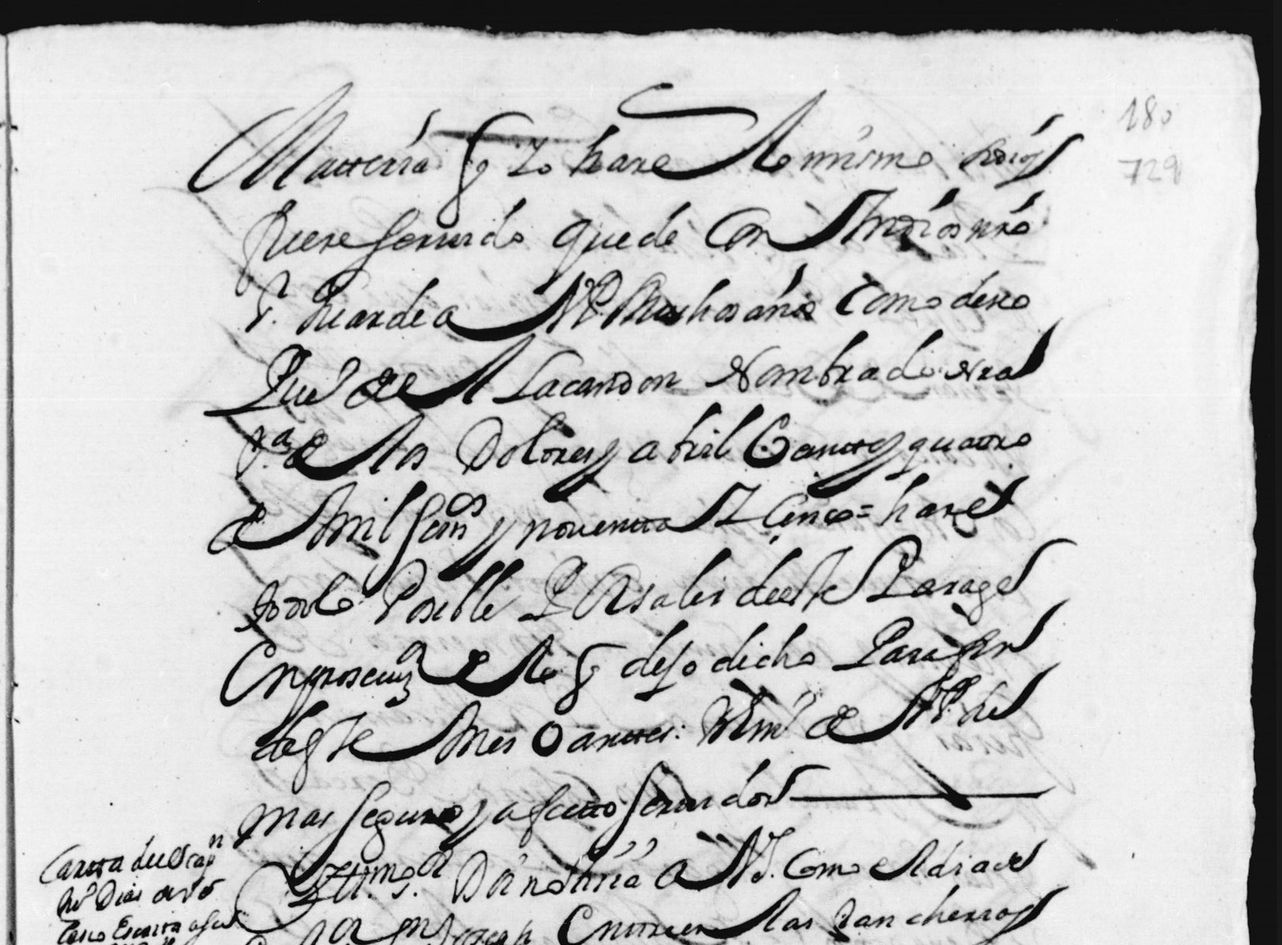lacandon: (491, 349, 682, 404)
